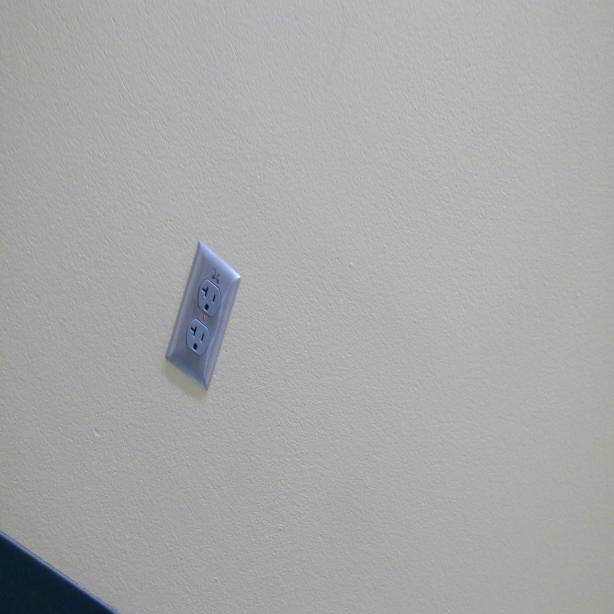typeb: (186, 316, 210, 359), (198, 281, 221, 317)
